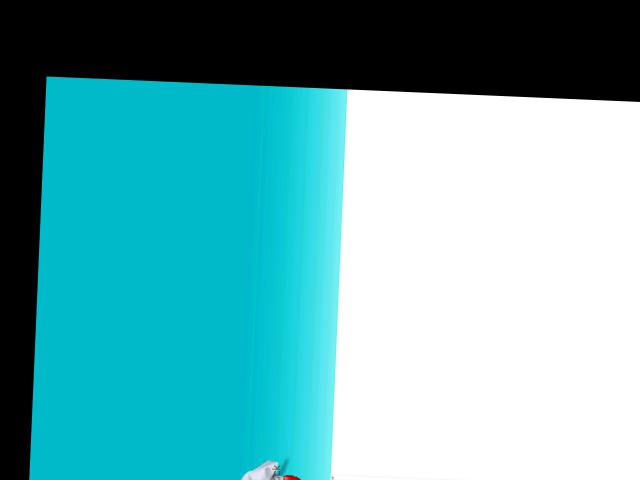tomato: (272, 474, 308, 480)
